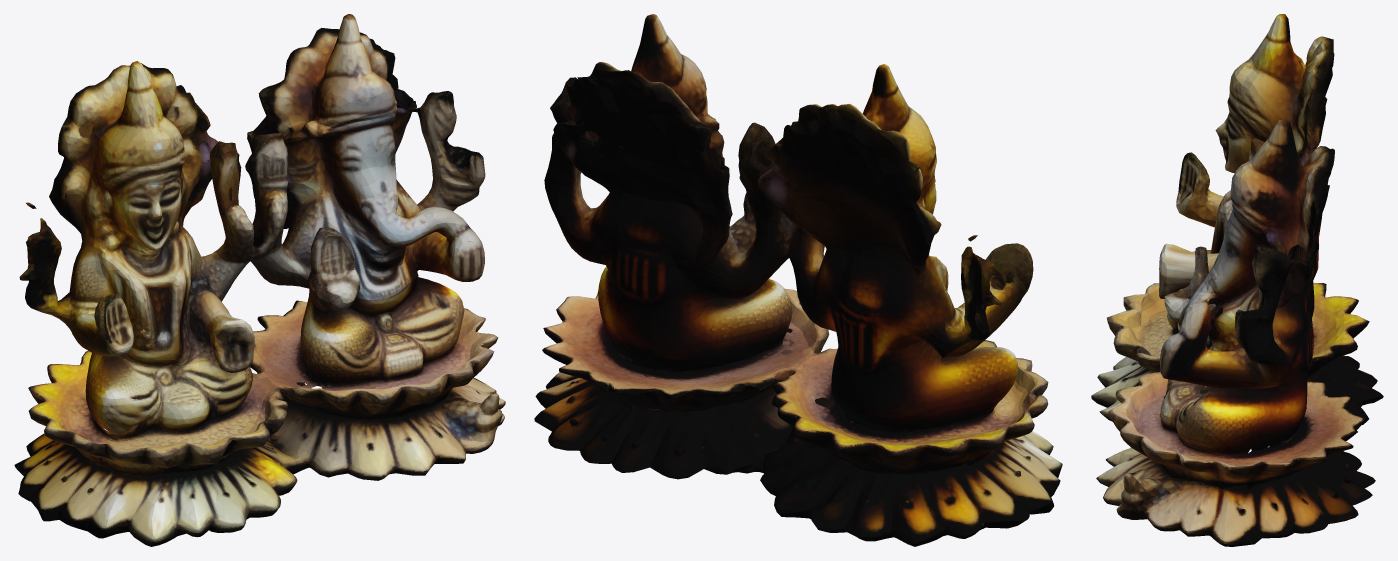
Rendered from lakshmi-ganesh-pair-r.glb.
3 renders of one model, left to right at view 1: azimuth 30°, elevation 25°; view 2: azimuth 150°, elevation 25°; view 3: azimuth 270°, elevation 25°, orthographic. The views are drawn at different scales.
Visible parts, largest first — view 1: world; view 2: world; view 3: world.
Part boxes in pixels (box(x1,y1,x2,y2)): world: box(14, 14, 505, 546); world: box(534, 14, 1062, 546); world: box(1091, 14, 1383, 546).
Size of the model in its own units: 1 by 0.8513 by 0.5761.
1 material, 1 textured.
